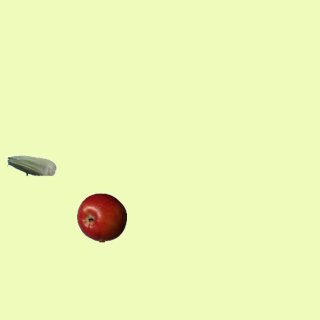Apple Braeburn: (76, 192, 126, 242)
Corn Husk: (6, 140, 56, 190)
